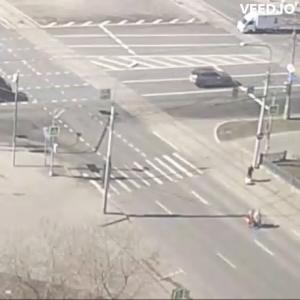car: (238, 13, 282, 35)
